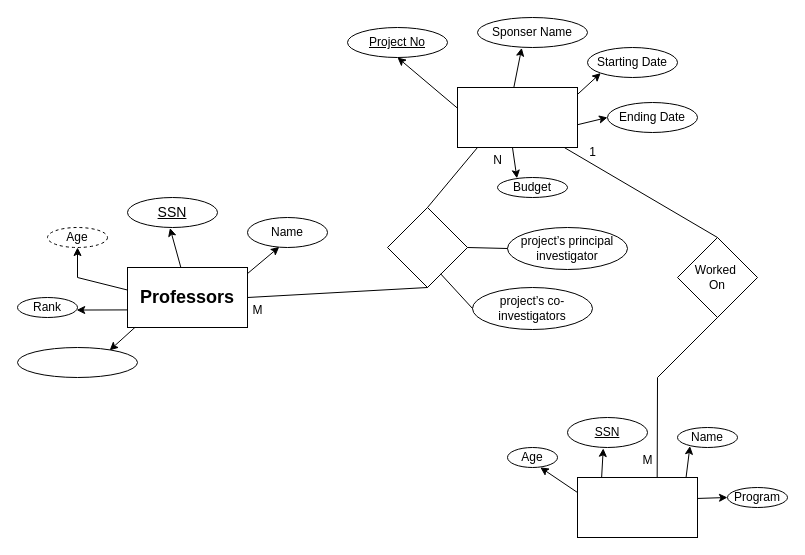
Image size: 805x555. Some labels were removed from this diagram. Each missing label, with the centre of its shape:
"Managed" goes at point 427,247.
"Project" goes at point 517,117.
"Research Specialty" goes at point 77,362.
"Student" goes at point 637,507.
